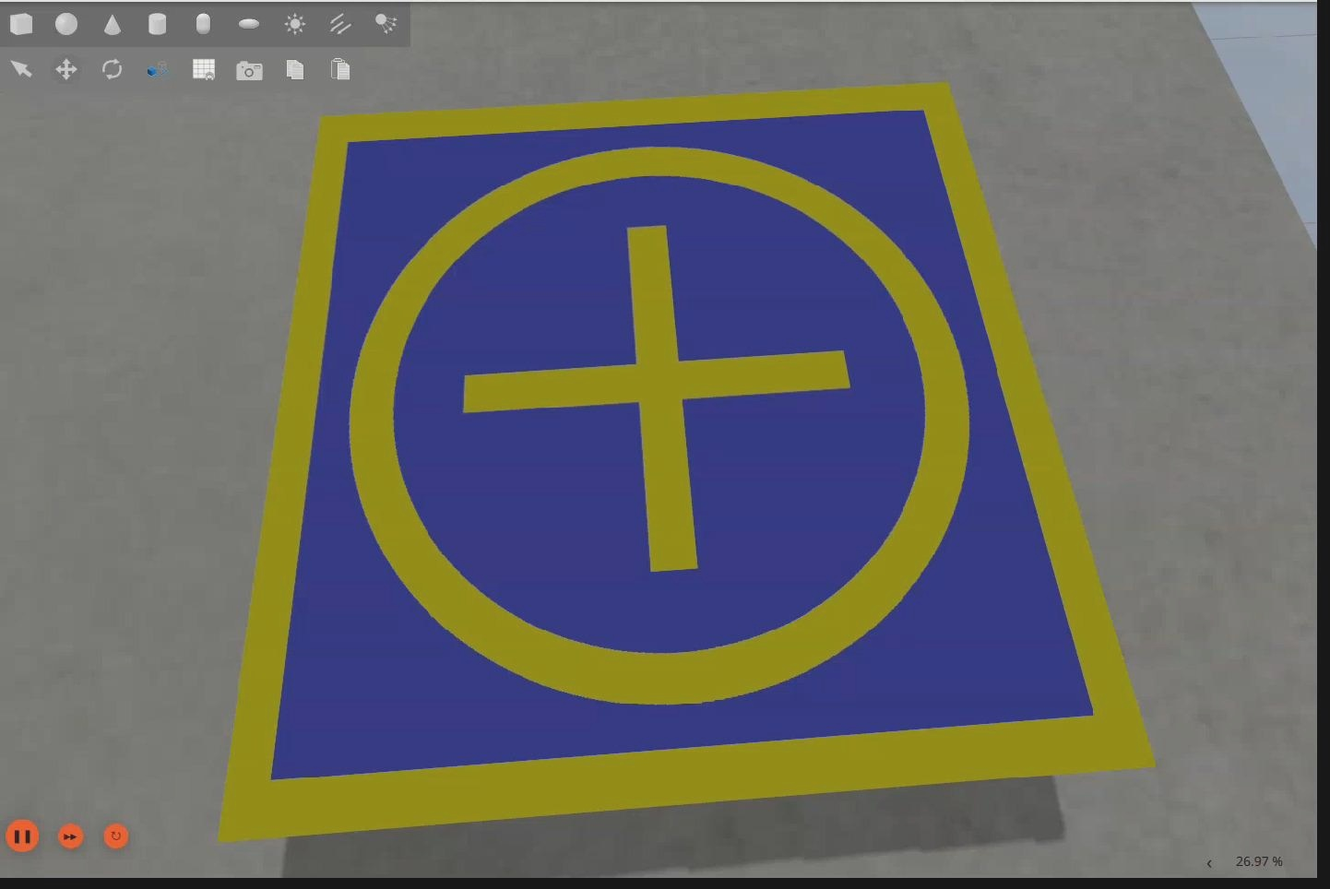small_base: (208, 84, 1161, 848)
